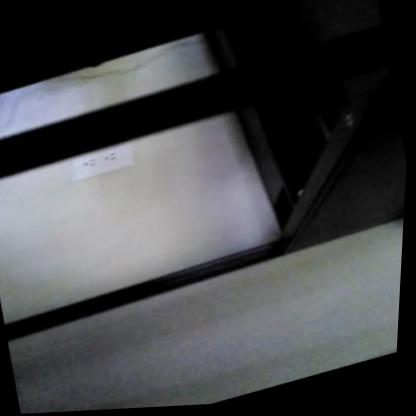OUTLET: (65, 140, 136, 183)
